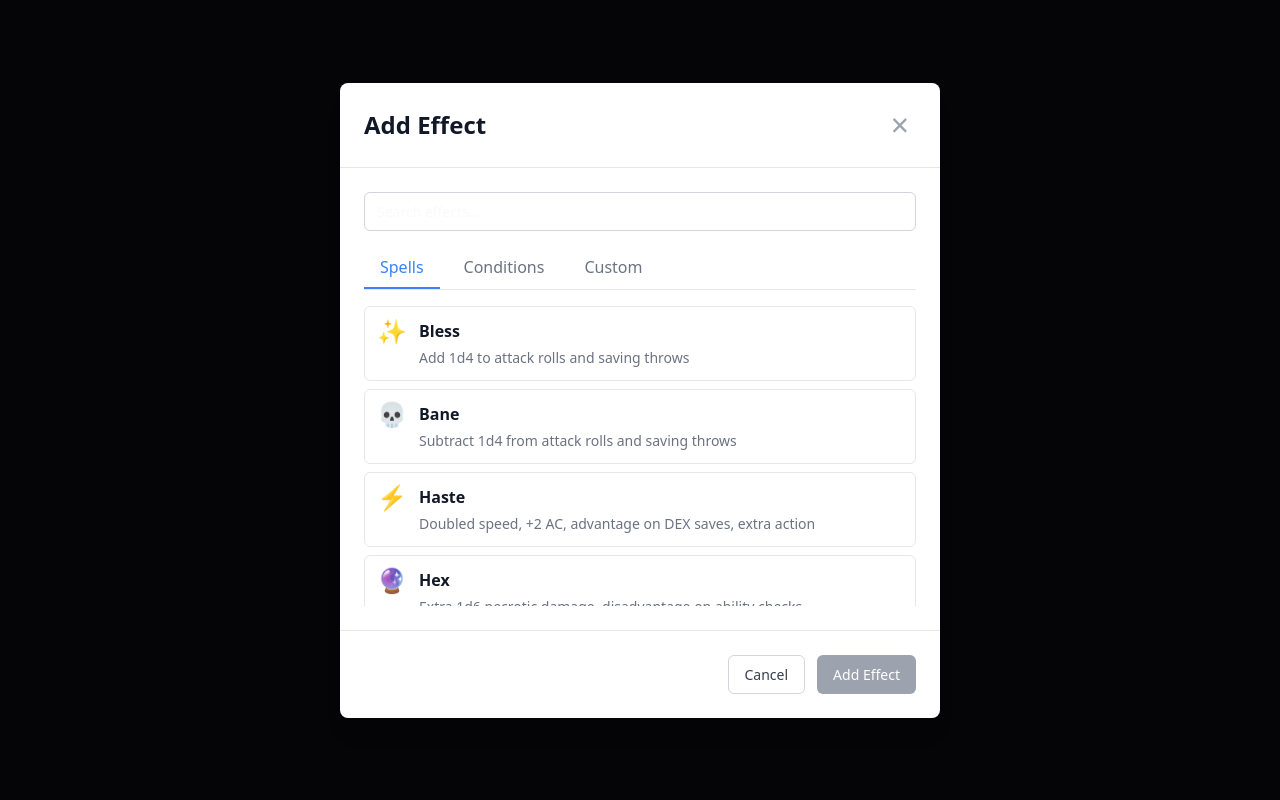
Scenario: AddEffectModal › Selection › should allow selecting a condition template
Click the button "Conditions" at (504, 268), box [448, 246, 560, 288]
(page scrolled)
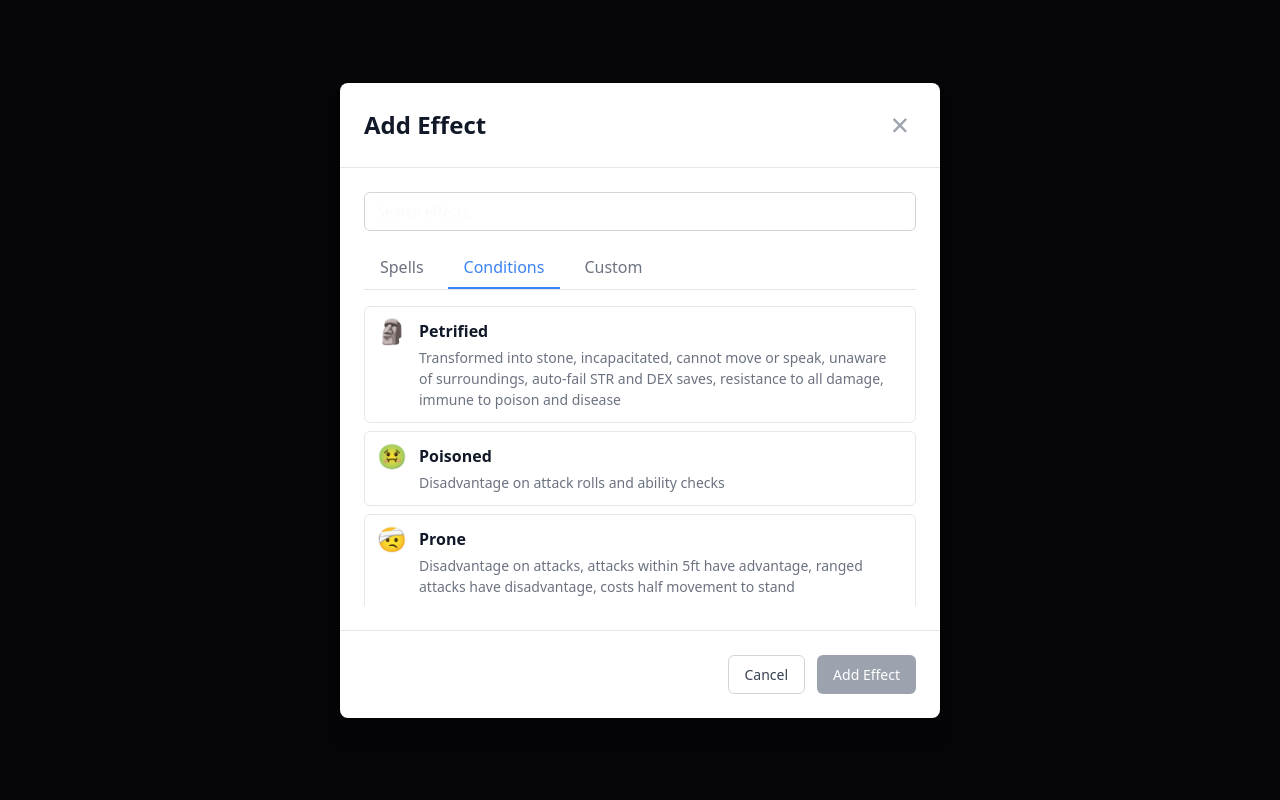
Click the text "Poisoned" at (455, 456), box [419, 444, 492, 466]
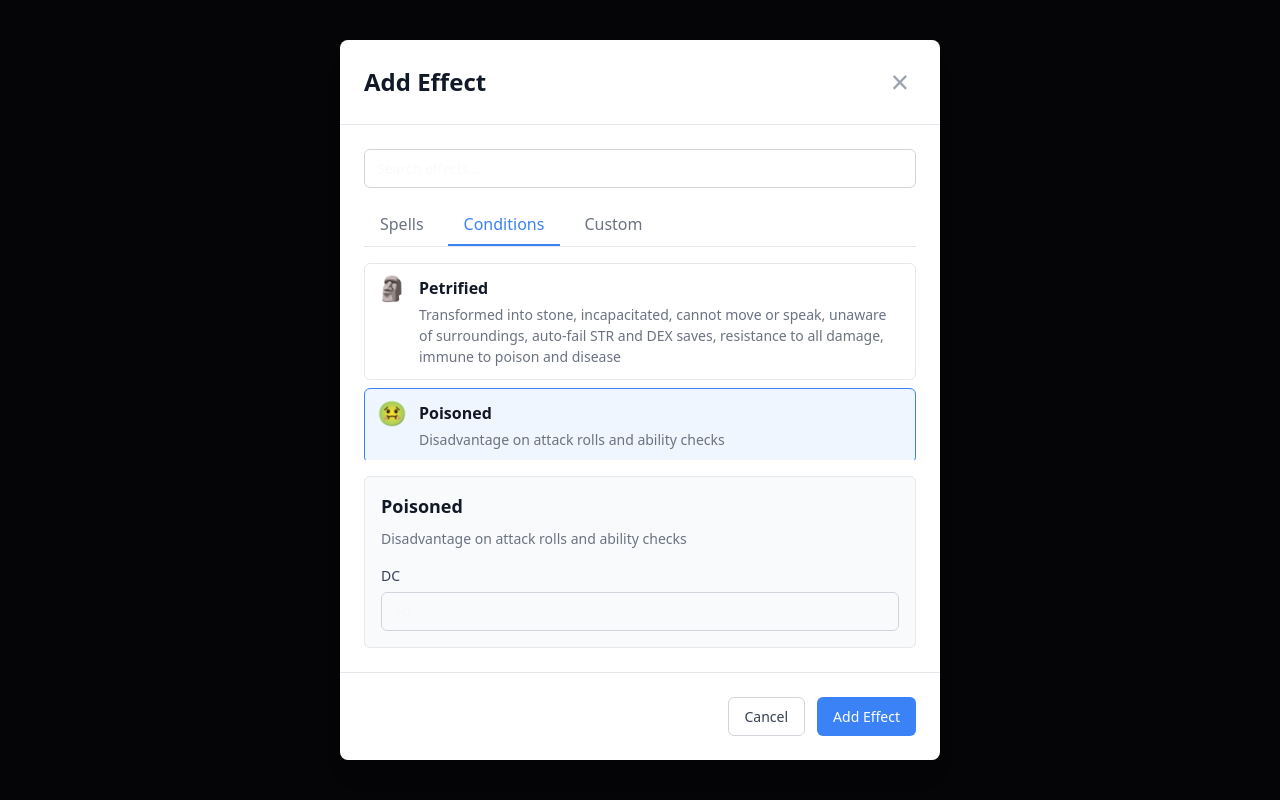
Check: the heading "Poisoned" is shown, box [381, 494, 463, 518]
